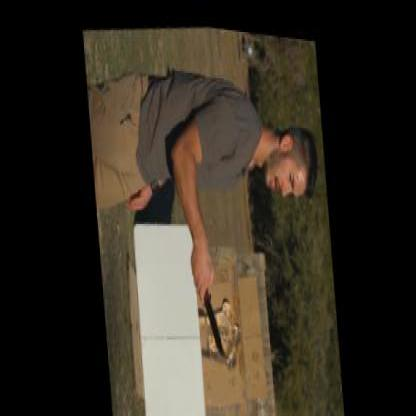knife: (186, 235, 226, 361)
